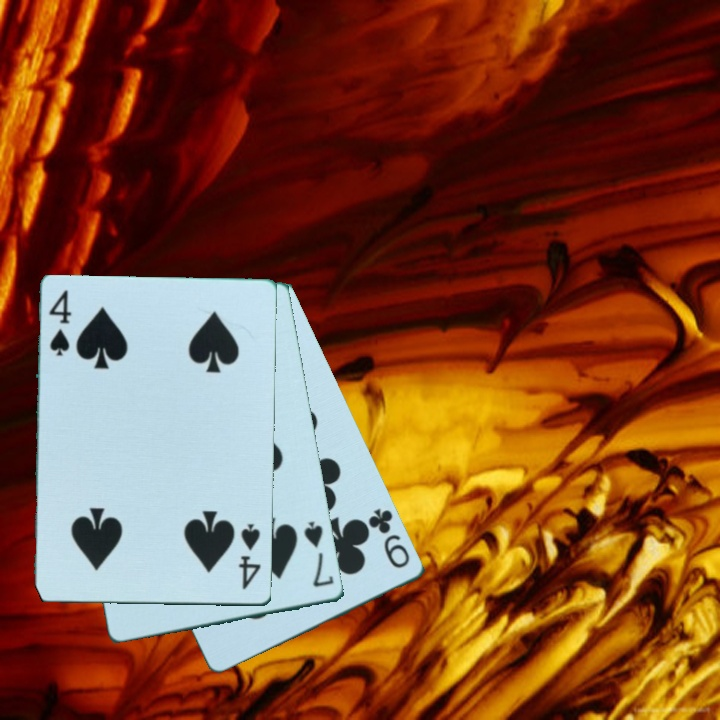4s: (236, 521, 265, 593), (46, 287, 73, 359)
7s: (300, 518, 337, 591)
9c: (365, 504, 414, 572)
